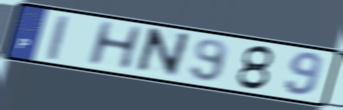8: (235, 44, 276, 91)
9: (282, 51, 324, 100), (189, 37, 229, 84)
H: (83, 19, 147, 71)
I: (46, 12, 72, 62)
N: (131, 27, 193, 80)
